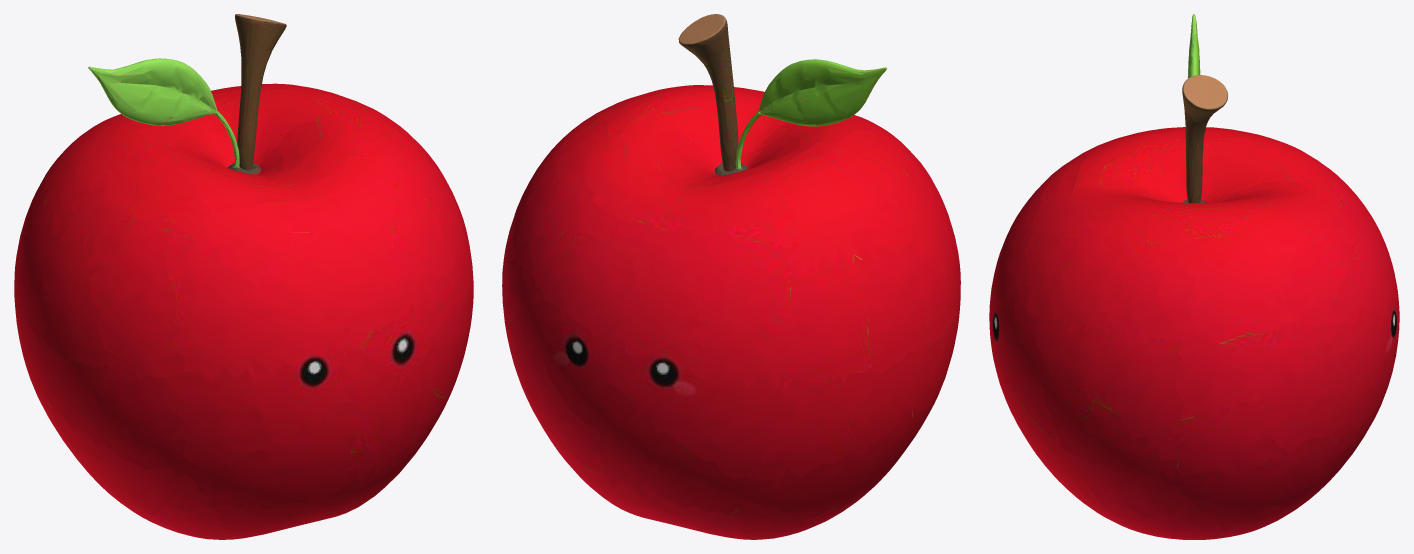
The model's file is apple.glb.
3 renders of one model, left to right at view 1: azimuth 30°, elevation 25°; view 2: azimuth 150°, elevation 25°; view 3: azimuth 270°, elevation 25°, orthographic. The views are drawn at different scales.
Size of the model in its own units: 1.63 by 1.9 by 1.63.
1 material, 1 textured.
